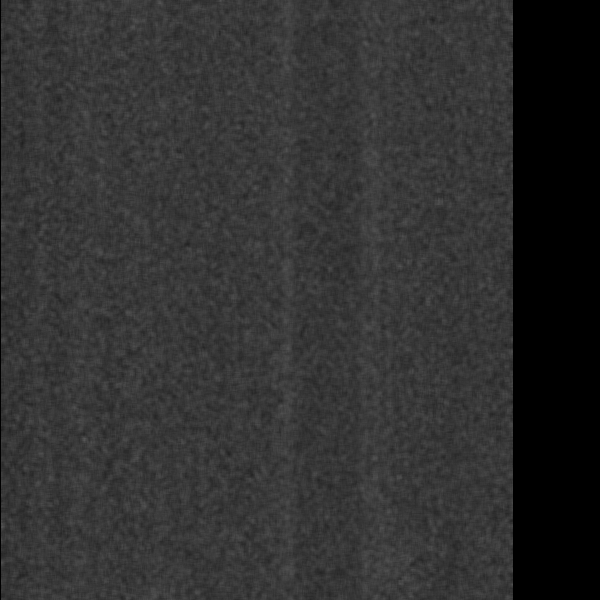spark: (237, 99, 287, 212), (338, 131, 381, 213), (42, 58, 88, 88), (235, 370, 265, 408)
